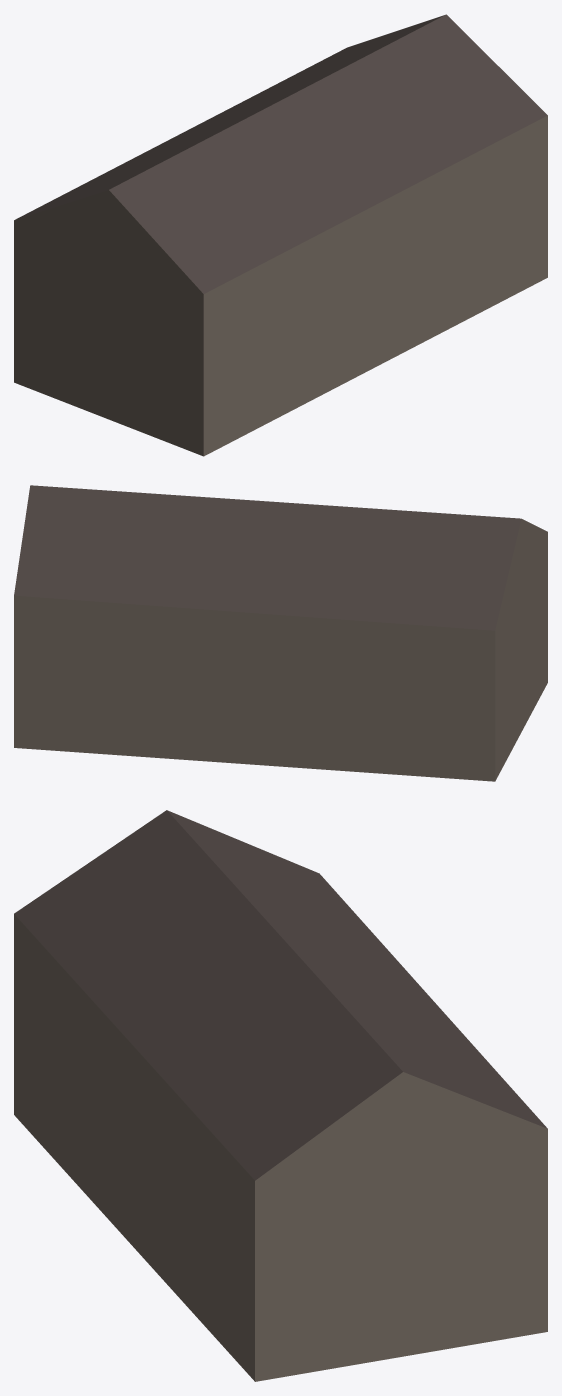
The picture shows the model from 3 angles, top to bottom: view 1: azimuth 30°, elevation 25°; view 2: azimuth 150°, elevation 25°; view 3: azimuth 270°, elevation 25°; orthographic projection. The views are drawn at different scales.
Parts seen in each view (by area): view 1: HP-w1516161980; view 2: HP-w1516161980; view 3: HP-w1516161980.
Boxes of the visible parts, x1,y1,x2,y2 form: HP-w1516161980: (14, 14, 547, 456); HP-w1516161980: (14, 485, 547, 781); HP-w1516161980: (14, 810, 547, 1381).
Bounding box in the file's own units: 19.66 × 8.49 × 14.44.
